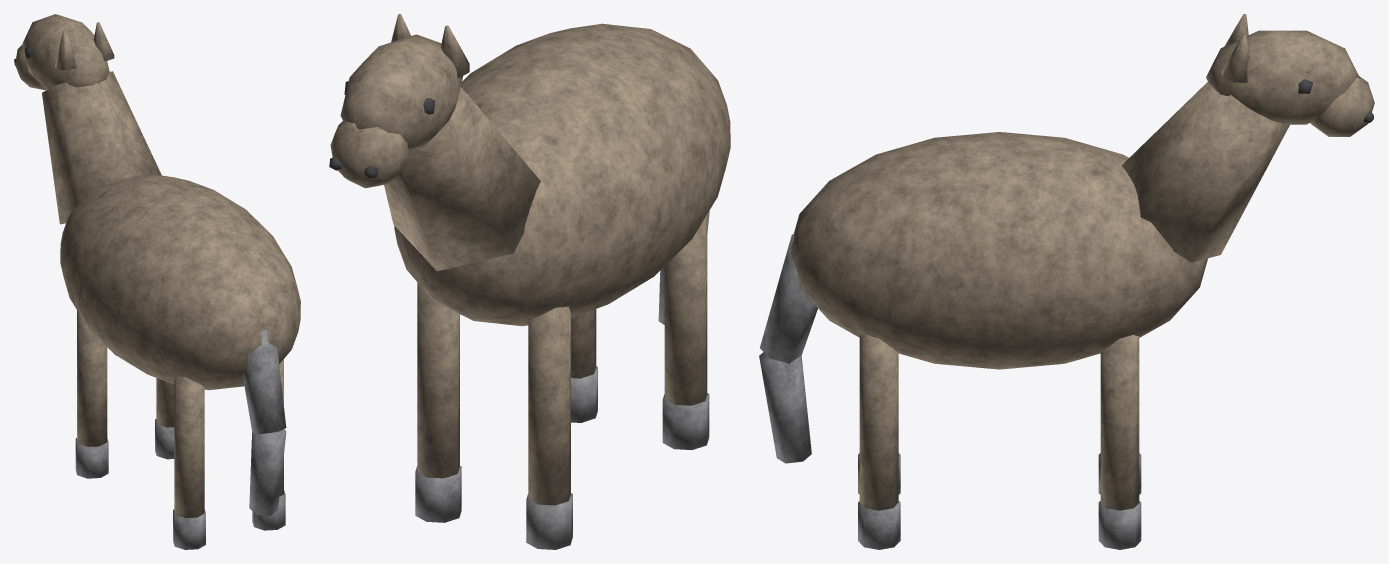
The model's file is mob_kuda.obj.
The picture shows the model from 3 angles, left to right: view 1: azimuth 30°, elevation 25°; view 2: azimuth 150°, elevation 25°; view 3: azimuth 270°, elevation 25°; orthographic projection. The views are drawn at different scales.
Visible parts, largest first — view 1: mob_kuda; view 2: mob_kuda; view 3: mob_kuda.
Part boxes in pixels (bbox=[...]): mob_kuda: bbox=[14, 14, 300, 549]; mob_kuda: bbox=[329, 14, 730, 549]; mob_kuda: bbox=[759, 14, 1374, 549].
Bounding box in the file's own units: 0.8439 × 1.85 × 2.1.
1 material, 1 textured.
